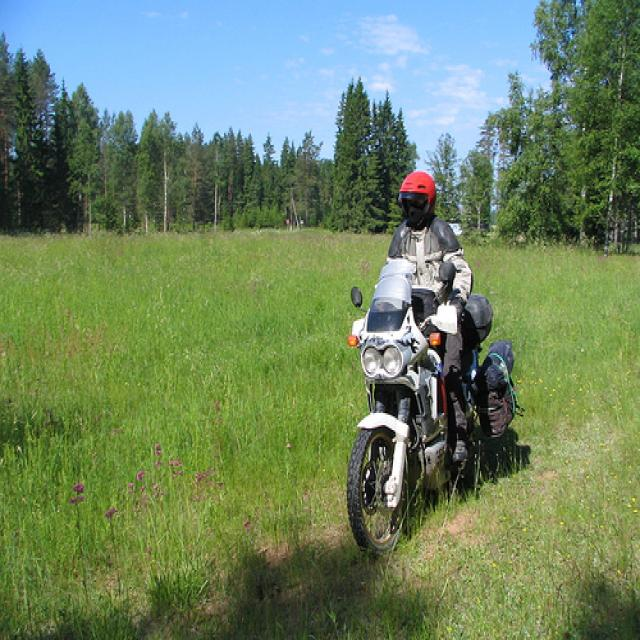motorbike: (348, 257, 473, 556)
person: (385, 172, 476, 462)
